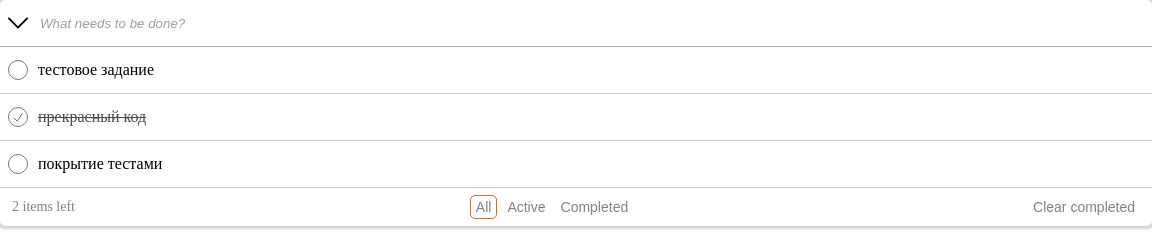
Scenario: смена фильтров › Изначально отображены все 3 задания. После нажатия на active должно остаться 2 задания
Expected: the number of list items with test id "li_test" is 3, [0, 47, 1151, 94]; [0, 94, 1151, 141]; [0, 141, 1151, 188]
Expected: the text "прекрасный код" is shown, [38, 109, 146, 125]
Click the button with test id "active_filter". click: coordinates (526, 207)
box: [502, 196, 550, 218]
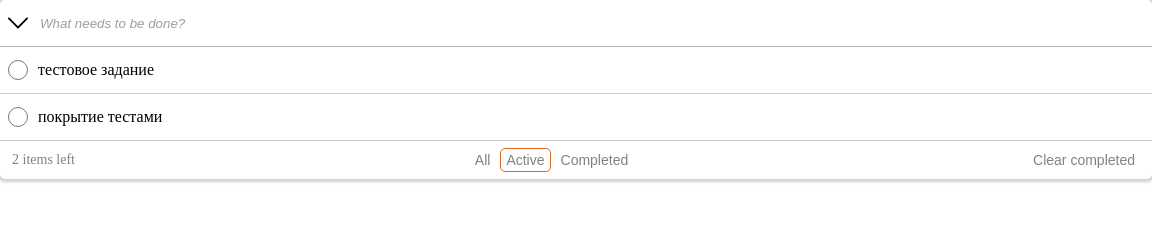
Result: the number of list items with test id "li_test" is 2 at [0, 47, 1151, 94]; [0, 94, 1151, 141]
Result: the text "прекрасный код" is gone
